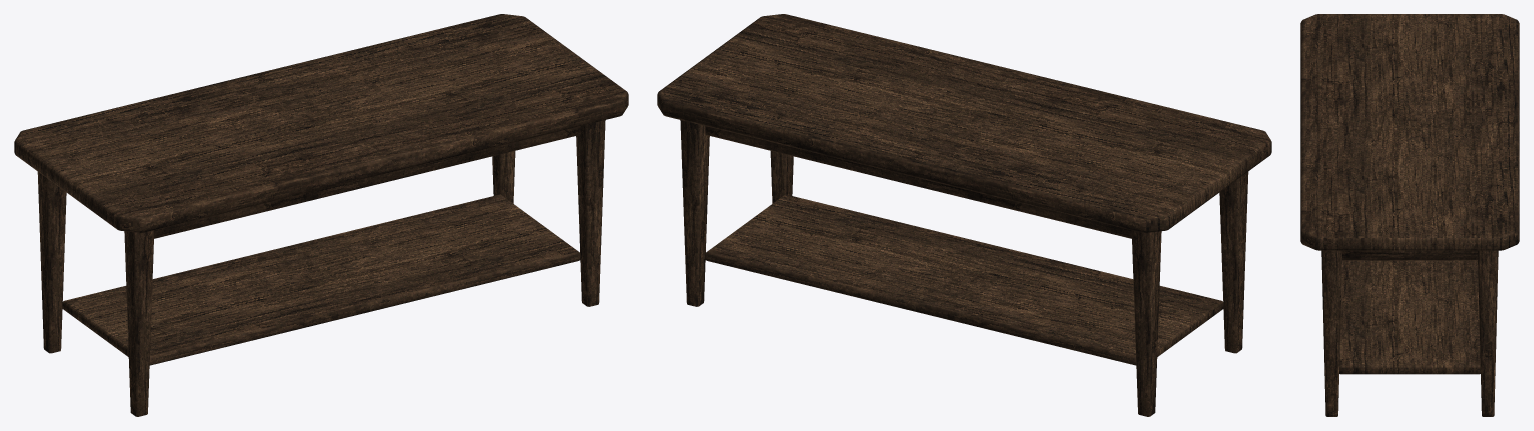
Rendered from table_small_1.glb.
3 renders of one model, left to right at view 1: azimuth 30°, elevation 25°; view 2: azimuth 150°, elevation 25°; view 3: azimuth 270°, elevation 25°, orthographic. The views are drawn at different scales.
Parts seen in each view (by area): view 1: table_small_1; view 2: table_small_1; view 3: table_small_1.
Part boxes in pixels (x1=…): table_small_1: x1=14, y1=14, x2=628, y2=416; table_small_1: x1=657, y1=14, x2=1271, y2=416; table_small_1: x1=1300, y1=14, x2=1519, y2=416.
Size of the model in its own units: 1.7 by 0.67 by 0.7.
1 material, 1 textured.
